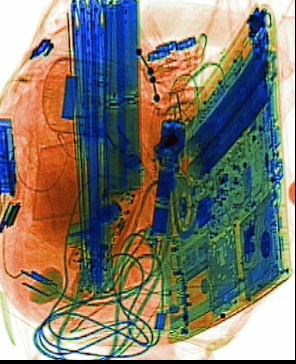powerbank: (180, 48, 276, 182), (95, 1, 144, 203)
